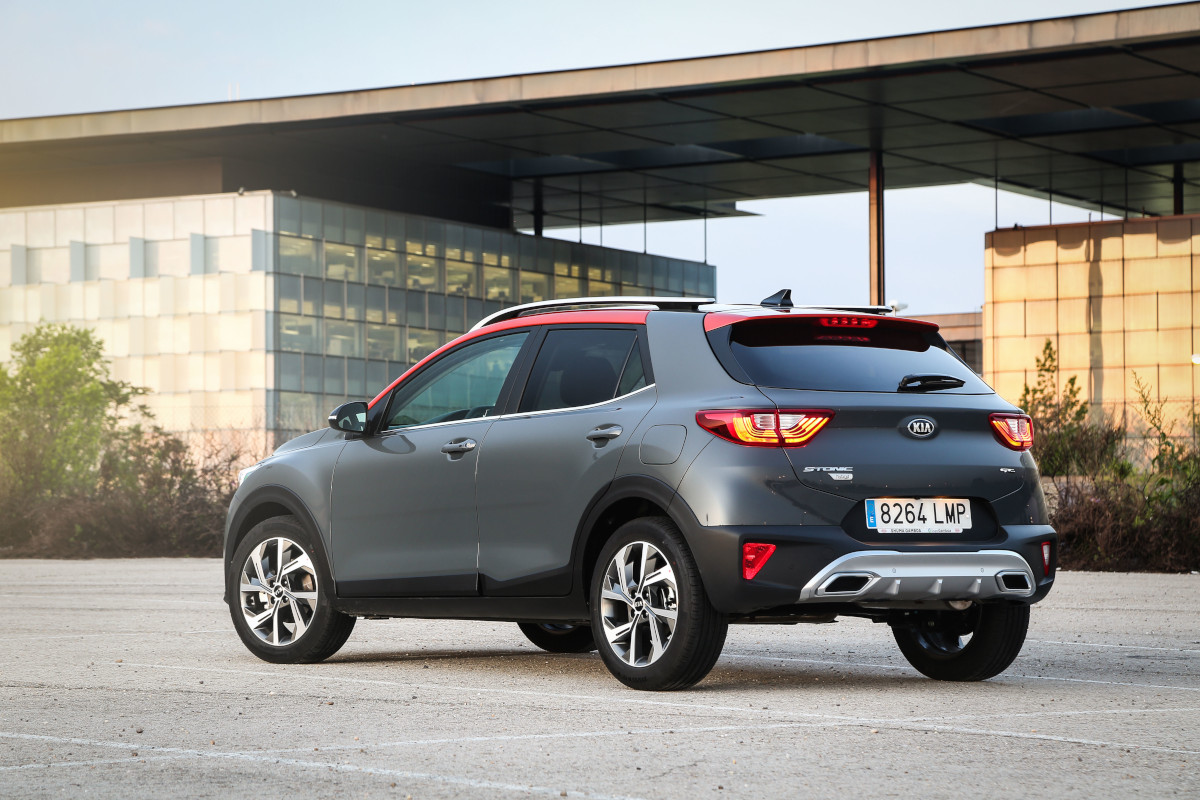Camioneta: (209, 288, 1061, 688)
